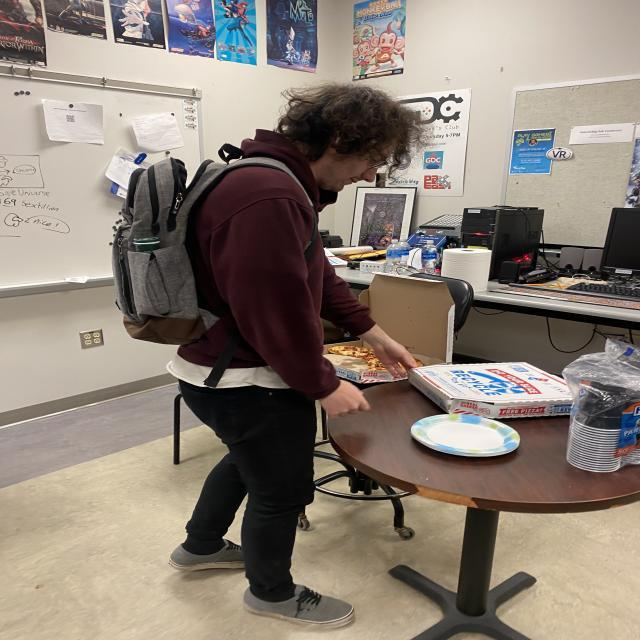Backpacks: (102, 155, 206, 338)
